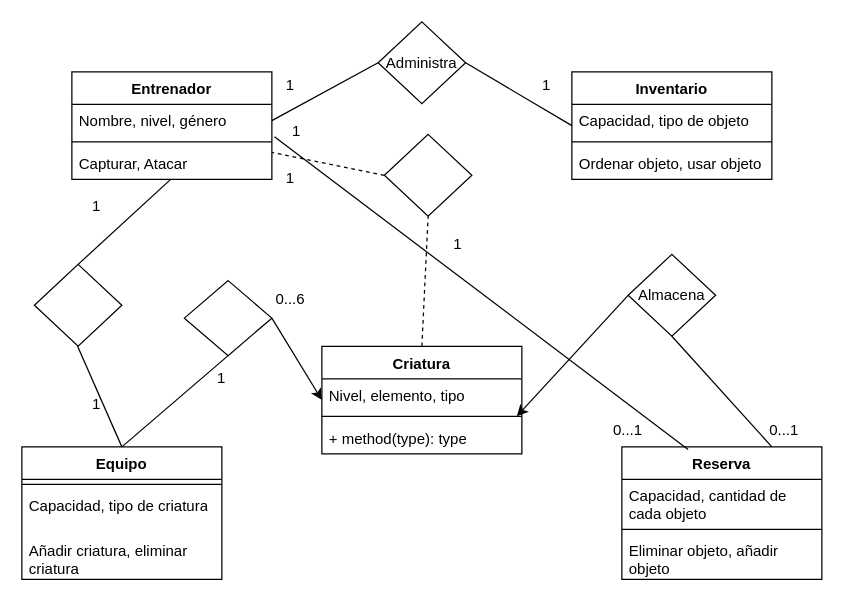
Some shapes in this 844 by 605 pixel diagram are drawn without their labels. Each missing label, with the centre of its shape:
"Captura" belongs at pixel 427 174.
"Contiene" belongs at pixel 227 317.
"Posee" belongs at pixel 77 304.
